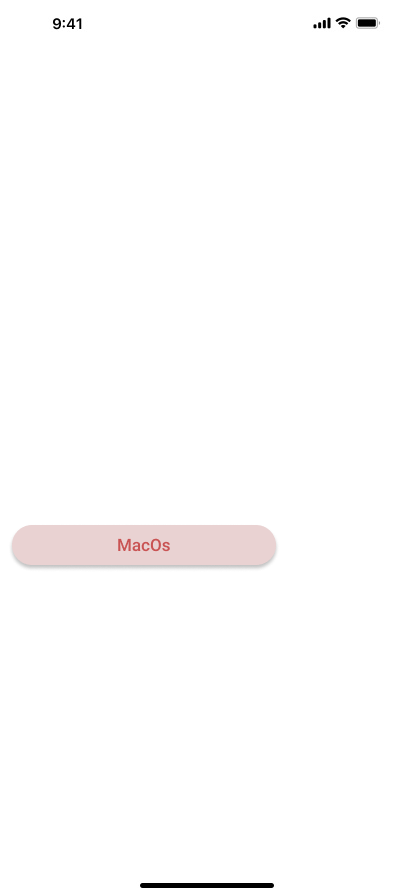Buttons: (8, 524, 284, 572)
Home Indicator: (0, 862, 414, 896)
Status Bar: (0, 0, 414, 44)
